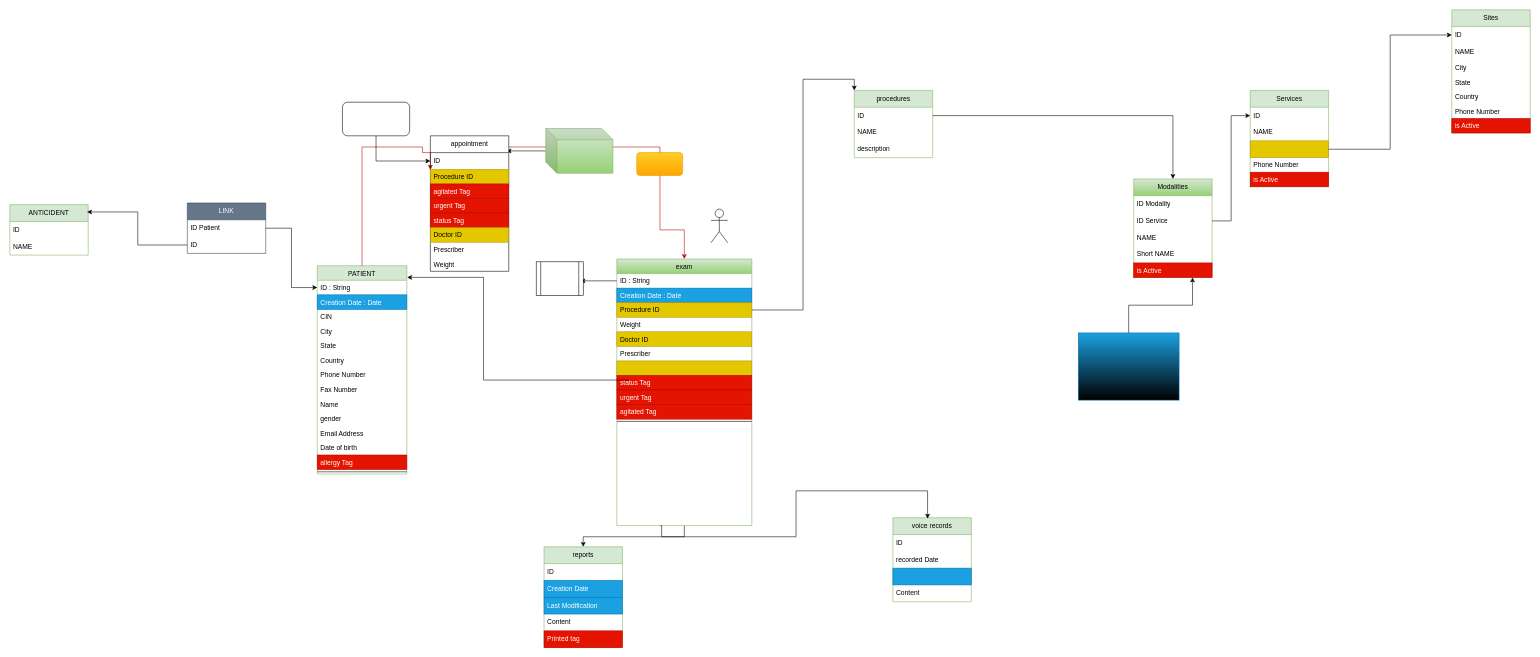
Image size: 1540x657. Some labels were removed from this diagram. The centre of each missing label's shape, as x and y in pixels:
Actor: point 719,226
alert: point 659,164
duration: point 931,576
index: point 559,278
Optional u can add the working hours probably we need it in the appointments: point 1128,366
Patient ID: point 684,367
program: point 579,150
Site ID: point 1289,149
